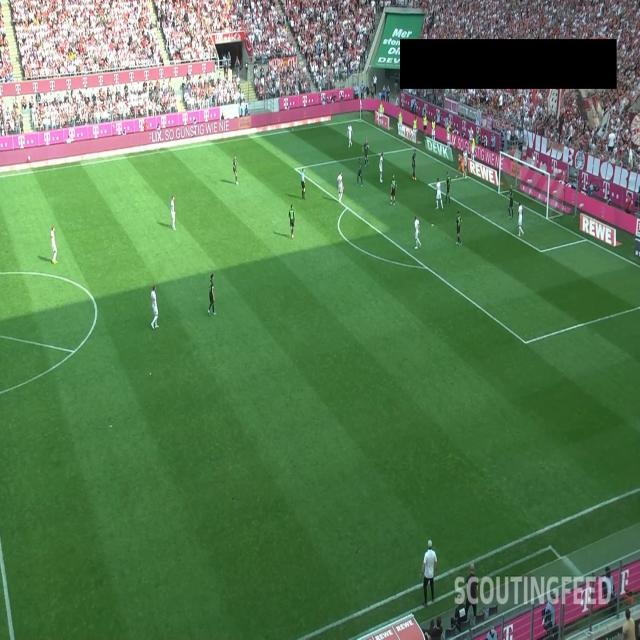ball: (458, 156, 461, 162)
